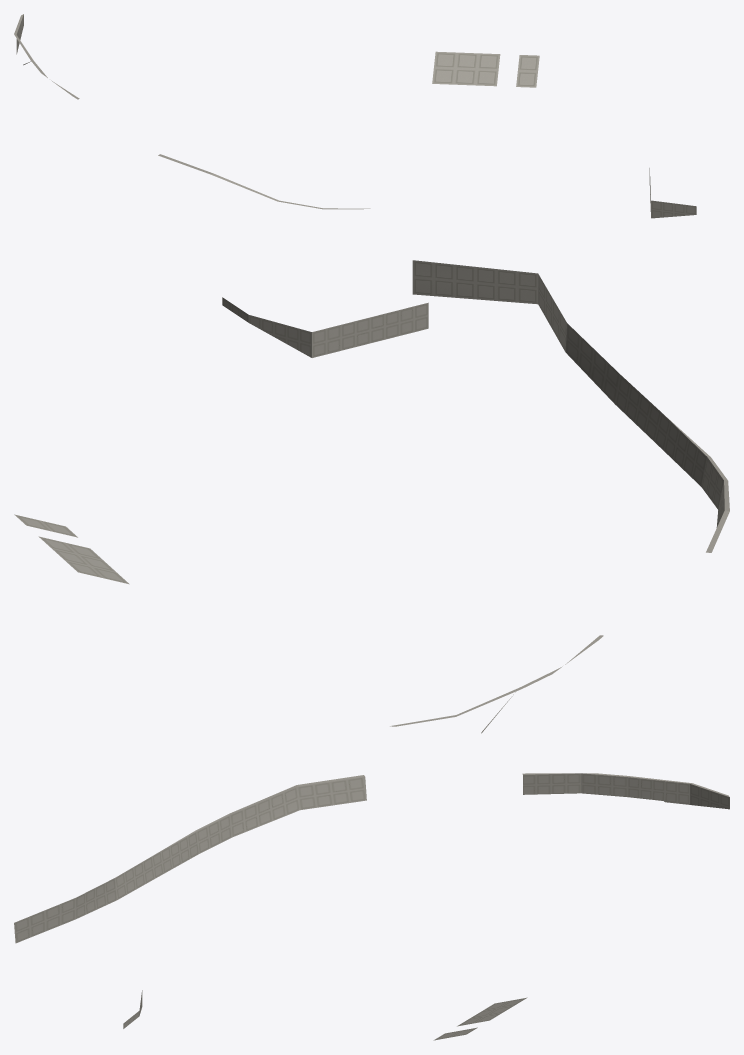
Rendered from kd_stage_13612f_4_5_bounded.glb.
3 renders of one model, top to bottom at view 1: azimuth 30°, elevation 25°; view 2: azimuth 150°, elevation 25°; view 3: azimuth 270°, elevation 25°, orthographic. The views are drawn at different scales.
Parts seen in each view (by area): view 1: kd_stage_13612f_4_5_bounded; view 2: kd_stage_13612f_4_5_bounded; view 3: kd_stage_13612f_4_5_bounded.
Boxes of the visible parts, <box> form: kd_stage_13612f_4_5_bounded: <box>14,14,696,218</box>; kd_stage_13612f_4_5_bounded: <box>14,260,729,733</box>; kd_stage_13612f_4_5_bounded: <box>14,773,729,1040</box>.
Bounding box in the file's own units: 93.3 × 11.2 × 123.
1 material, 1 textured.
